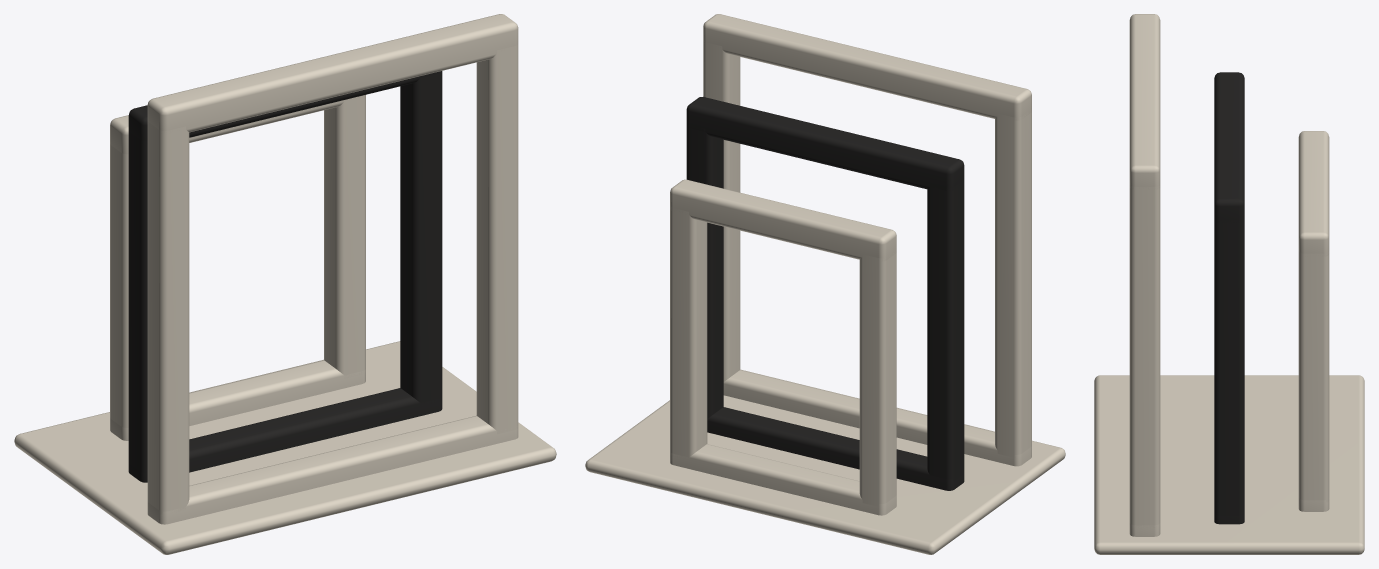
File: VSV-010.glb
The picture shows the model from 3 angles, left to right: view 1: azimuth 30°, elevation 25°; view 2: azimuth 150°, elevation 25°; view 3: azimuth 270°, elevation 25°; orthographic projection. The views are drawn at different scales.
Visible parts, largest first — view 1: VSV-010_nested-frames__foundation, VSV-010_nested-frames__portal left, VSV-010_nested-frames__portal right, VSV-010_nested-frames__portal top, VSV-010_nested-frames__portal right.001, VSV-010_nested-frames__portal right.002, VSV-010_nested-frames__portal bottom, VSV-010_nested-frames__portal bottom.001, VSV-010_nested-frames__portal left.001, VSV-010_nested-frames__portal bottom.002, VSV-010_nested-frames__portal left.002, VSV-010_nested-frames__portal top.001 (+1 smaller); view 2: VSV-010_nested-frames__foundation, VSV-010_nested-frames__portal left, VSV-010_nested-frames__portal top, VSV-010_nested-frames__portal left.001, VSV-010_nested-frames__portal top.001, VSV-010_nested-frames__portal left.002, VSV-010_nested-frames__portal right.002, VSV-010_nested-frames__portal top.002, VSV-010_nested-frames__portal bottom, VSV-010_nested-frames__portal bottom.001, VSV-010_nested-frames__portal bottom.002, VSV-010_nested-frames__portal right (+1 smaller); view 3: VSV-010_nested-frames__foundation, VSV-010_nested-frames__portal right, VSV-010_nested-frames__portal right.001, VSV-010_nested-frames__portal right.002, VSV-010_nested-frames__portal top, VSV-010_nested-frames__portal top.001, VSV-010_nested-frames__portal top.002, VSV-010_nested-frames__portal bottom, VSV-010_nested-frames__portal bottom.002.
Part boxes in pixels (box(x1,y1,x2,y2)): VSV-010_nested-frames__foundation: box(14, 341, 556, 554); VSV-010_nested-frames__portal left: box(147, 121, 189, 514); VSV-010_nested-frames__portal right: box(476, 44, 518, 434); VSV-010_nested-frames__portal top: box(147, 14, 518, 133); VSV-010_nested-frames__portal right.001: box(400, 71, 442, 405); VSV-010_nested-frames__portal right.002: box(324, 95, 365, 378); VSV-010_nested-frames__portal bottom: box(147, 415, 518, 524); VSV-010_nested-frames__portal bottom.001: box(128, 388, 442, 482); VSV-010_nested-frames__portal left.001: box(128, 131, 147, 473); VSV-010_nested-frames__portal bottom.002: box(110, 360, 365, 440); VSV-010_nested-frames__portal left.002: box(110, 144, 128, 427); VSV-010_nested-frames__portal top.001: box(128, 71, 441, 144); VSV-010_nested-frames__foundation: box(585, 369, 1065, 554); VSV-010_nested-frames__portal left: box(995, 109, 1031, 457); VSV-010_nested-frames__portal top: box(703, 14, 1031, 120); VSV-010_nested-frames__portal left.001: box(927, 179, 964, 481); VSV-010_nested-frames__portal top.001: box(686, 97, 964, 190); VSV-010_nested-frames__portal left.002: box(859, 251, 896, 506); VSV-010_nested-frames__portal right.002: box(670, 207, 707, 459); VSV-010_nested-frames__portal top.002: box(670, 179, 896, 261); VSV-010_nested-frames__portal bottom: box(723, 370, 1031, 466); VSV-010_nested-frames__portal bottom.001: box(707, 407, 964, 490); VSV-010_nested-frames__portal bottom.002: box(670, 444, 896, 515); VSV-010_nested-frames__portal right: box(703, 41, 740, 381); VSV-010_nested-frames__foundation: box(1094, 375, 1364, 554); VSV-010_nested-frames__portal right: box(1129, 185, 1160, 528); VSV-010_nested-frames__portal right.001: box(1214, 218, 1244, 515); VSV-010_nested-frames__portal right.002: box(1298, 251, 1329, 502); VSV-010_nested-frames__portal top: box(1129, 14, 1160, 189); VSV-010_nested-frames__portal top.001: box(1214, 72, 1244, 223); VSV-010_nested-frames__portal top.002: box(1298, 131, 1329, 256); VSV-010_nested-frames__portal bottom: box(1129, 523, 1160, 536); VSV-010_nested-frames__portal bottom.002: box(1298, 498, 1329, 511).
Size of the model in its own units: 2.4 by 2.49 by 1.6.
